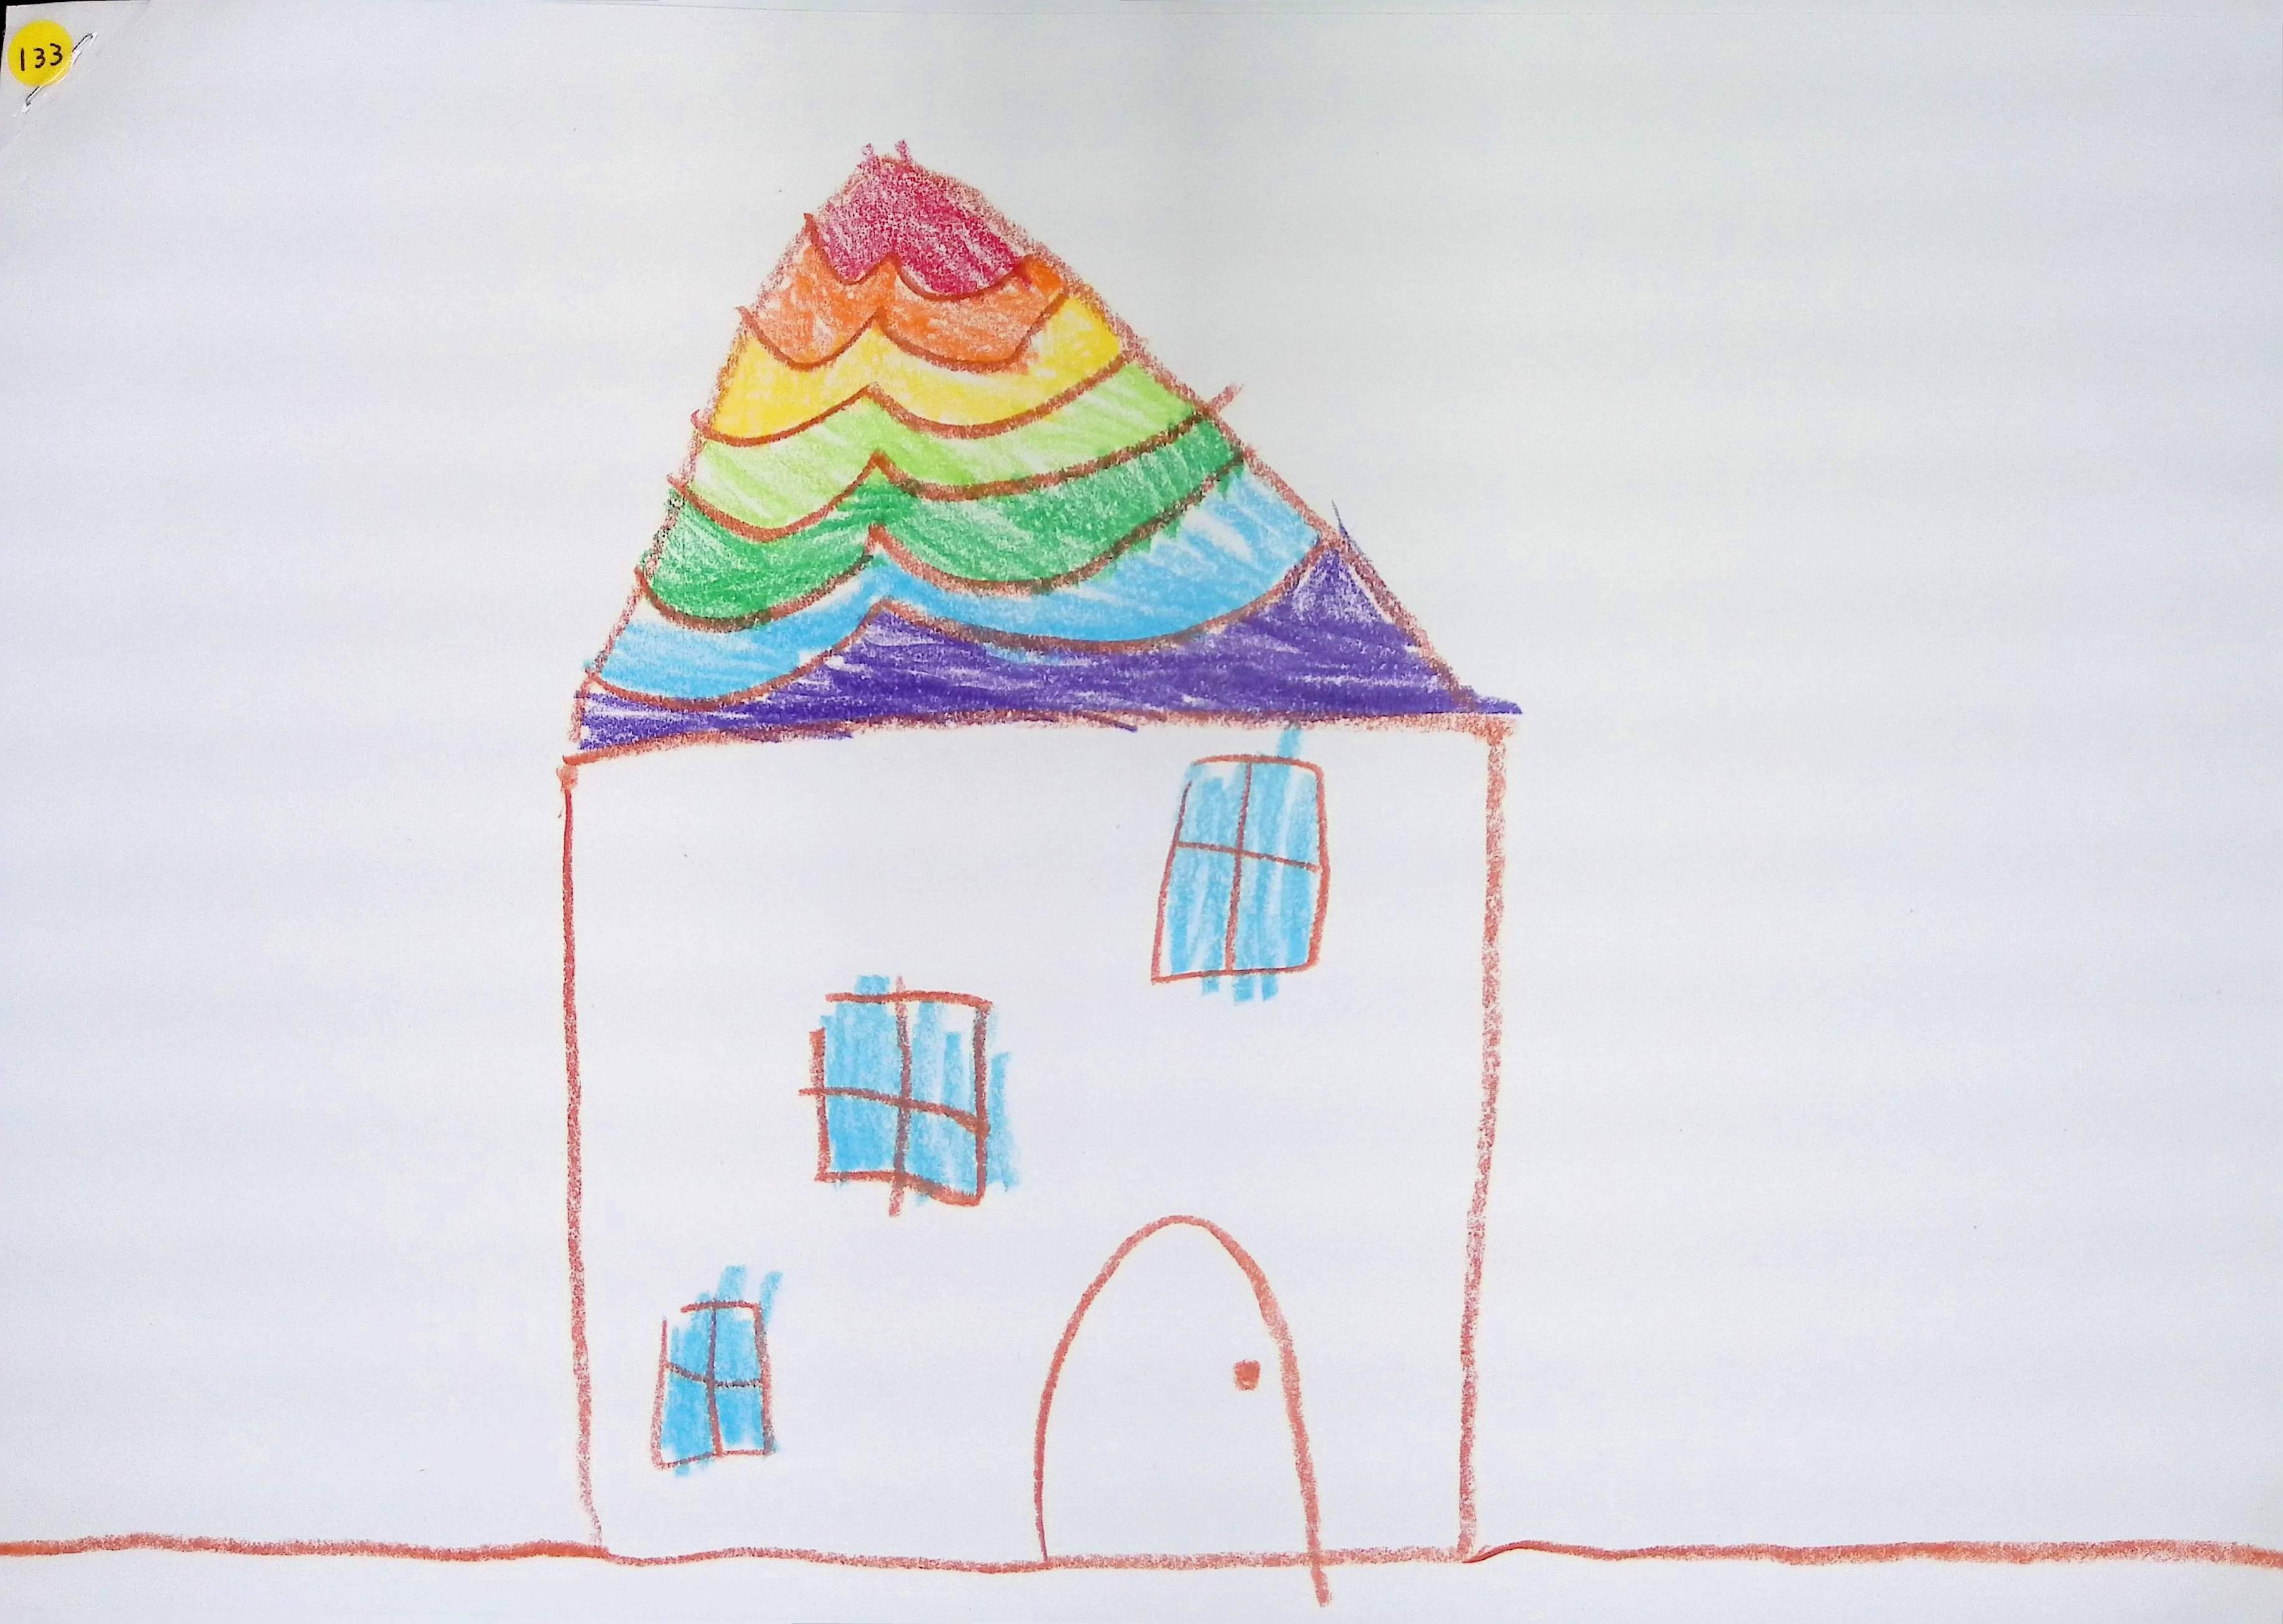door: (1044, 1227, 1306, 1561)
house: (559, 153, 1515, 1559)
roof: (561, 149, 1510, 772)
wall: (569, 707, 1503, 1568)
window: (1153, 754, 1329, 981), (817, 995, 988, 1206), (656, 1297, 777, 1473)
